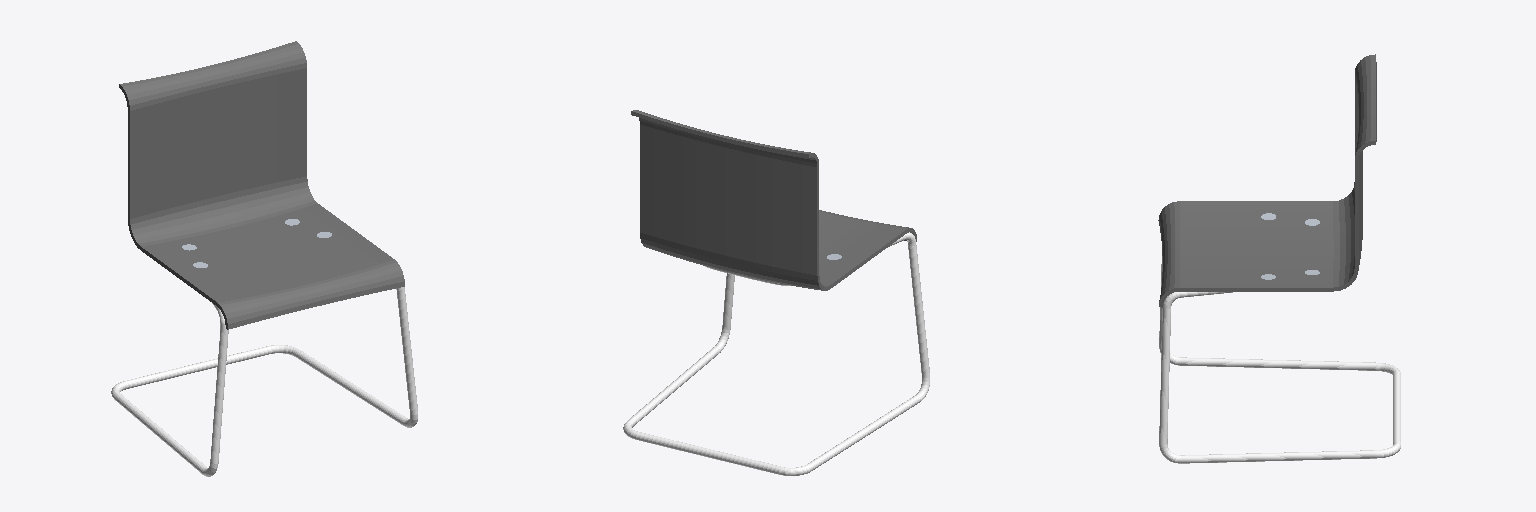
3 views of the same model, side by side, from view 1: azimuth 30°, elevation 25°; view 2: azimuth 150°, elevation 25°; view 3: azimuth 270°, elevation 25° (orthographic).
Parts seen in each view (by area): view 1: Mesh2 Silla_TOBIAS_Ikea1 Model, Mesh1 Group1 Silla_TOBIAS_Ikea1 Model; view 2: Mesh2 Silla_TOBIAS_Ikea1 Model, Mesh1 Group1 Silla_TOBIAS_Ikea1 Model; view 3: Mesh2 Silla_TOBIAS_Ikea1 Model, Mesh1 Group1 Silla_TOBIAS_Ikea1 Model.
Boxes of the visible parts, x1,y1,x2,y2 form: Mesh2 Silla_TOBIAS_Ikea1 Model: [119, 41, 404, 329]; Mesh1 Group1 Silla_TOBIAS_Ikea1 Model: [111, 287, 417, 476]; Mesh2 Silla_TOBIAS_Ikea1 Model: [631, 110, 916, 290]; Mesh1 Group1 Silla_TOBIAS_Ikea1 Model: [623, 232, 929, 475]; Mesh2 Silla_TOBIAS_Ikea1 Model: [1158, 54, 1376, 307]; Mesh1 Group1 Silla_TOBIAS_Ikea1 Model: [1159, 256, 1400, 463].
Bounding box in the file's own units: 56.5 × 82 × 57.02.